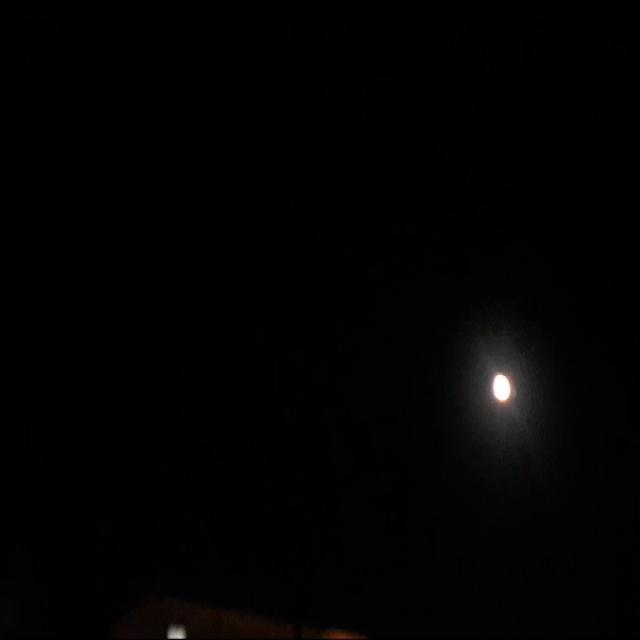moon: (490, 373, 513, 406)
